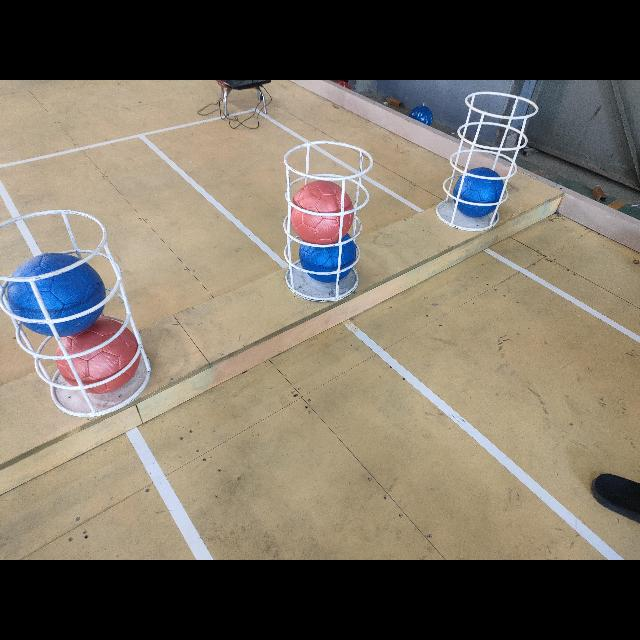B: (7, 252, 107, 336), (298, 241, 358, 285), (454, 168, 504, 218)
R: (53, 338, 141, 394), (288, 181, 354, 241)
